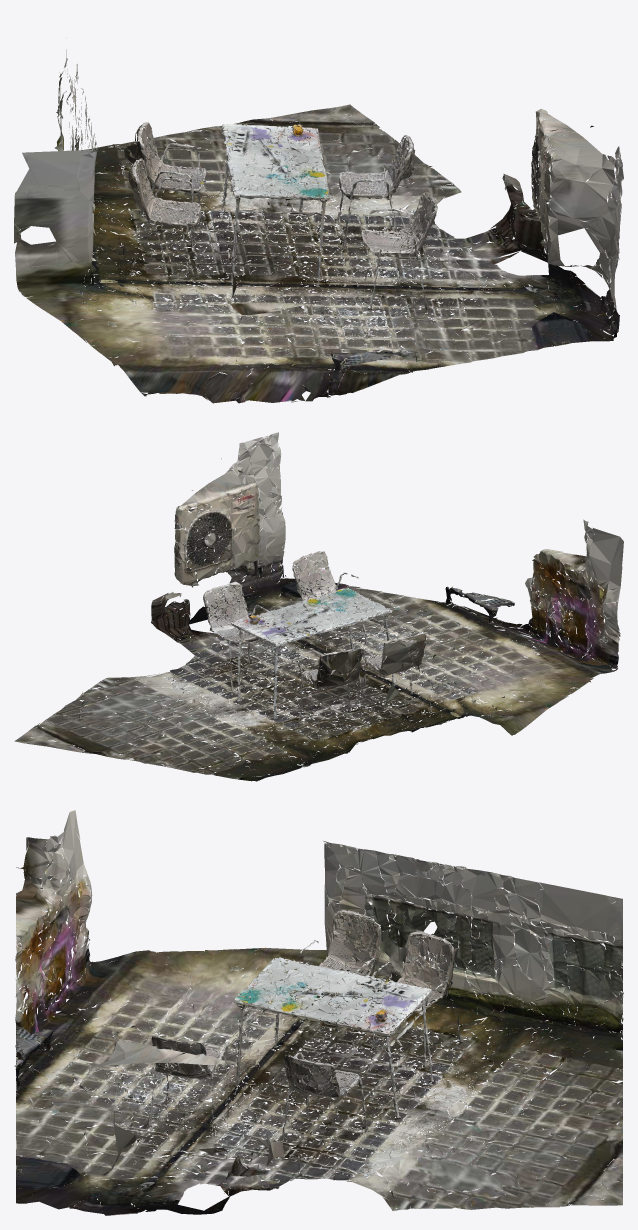
The model's file is scan03.glb.
3 renders of one model, top to bottom at view 1: azimuth 30°, elevation 25°; view 2: azimuth 150°, elevation 25°; view 3: azimuth 270°, elevation 25°, orthographic. The views are drawn at different scales.
Visible parts, largest first — view 1: Mesh_0, Mesh_1, Mesh_2; view 2: Mesh_0, Mesh_1, Mesh_2; view 3: Mesh_1, Mesh_0, Mesh_2.
Part boxes in pixels (x1,y1,x2,y2): Mesh_0: [16, 64, 622, 403]; Mesh_1: [19, 58, 623, 402]; Mesh_2: [14, 49, 623, 403]; Mesh_0: [14, 432, 618, 774]; Mesh_1: [30, 437, 623, 775]; Mesh_2: [17, 432, 620, 781]; Mesh_1: [14, 810, 623, 1210]; Mesh_0: [15, 837, 623, 1215]; Mesh_2: [15, 837, 622, 1210].
Bounding box in the file's own units: 2.97 × 1.06 × 3.28.
Materials: 3 (3 with a texture image).
